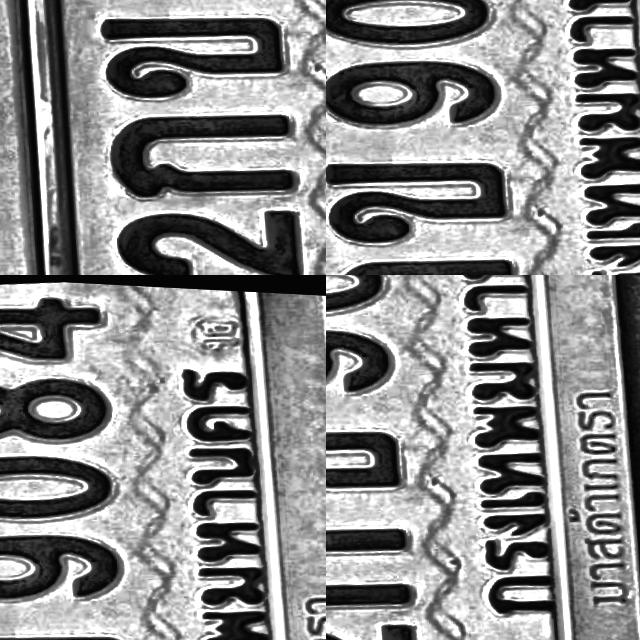license-plate: (326, 275, 640, 640), (326, 0, 640, 275), (0, 157, 57, 275)
